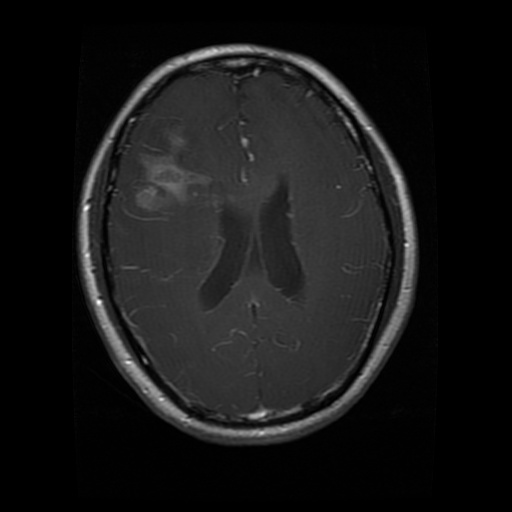glioma: (120, 115, 215, 229)
